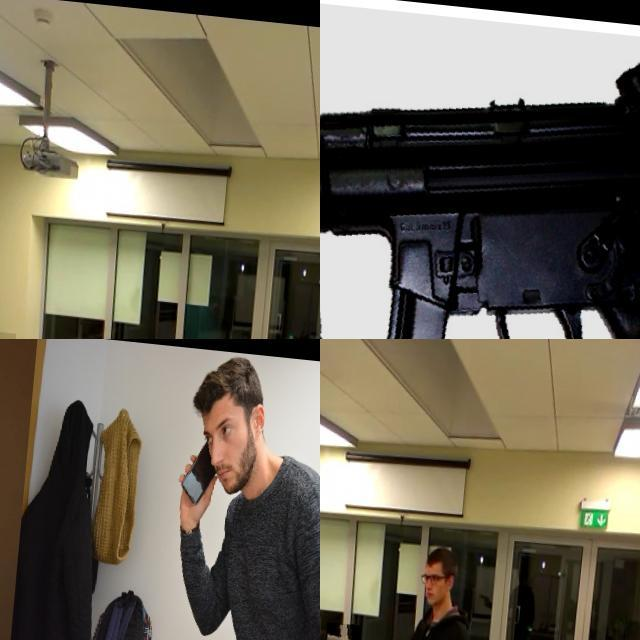gun-knife-thesis - v11 Yolov5 augmented: (320, 0, 640, 339), (330, 618, 366, 640)
